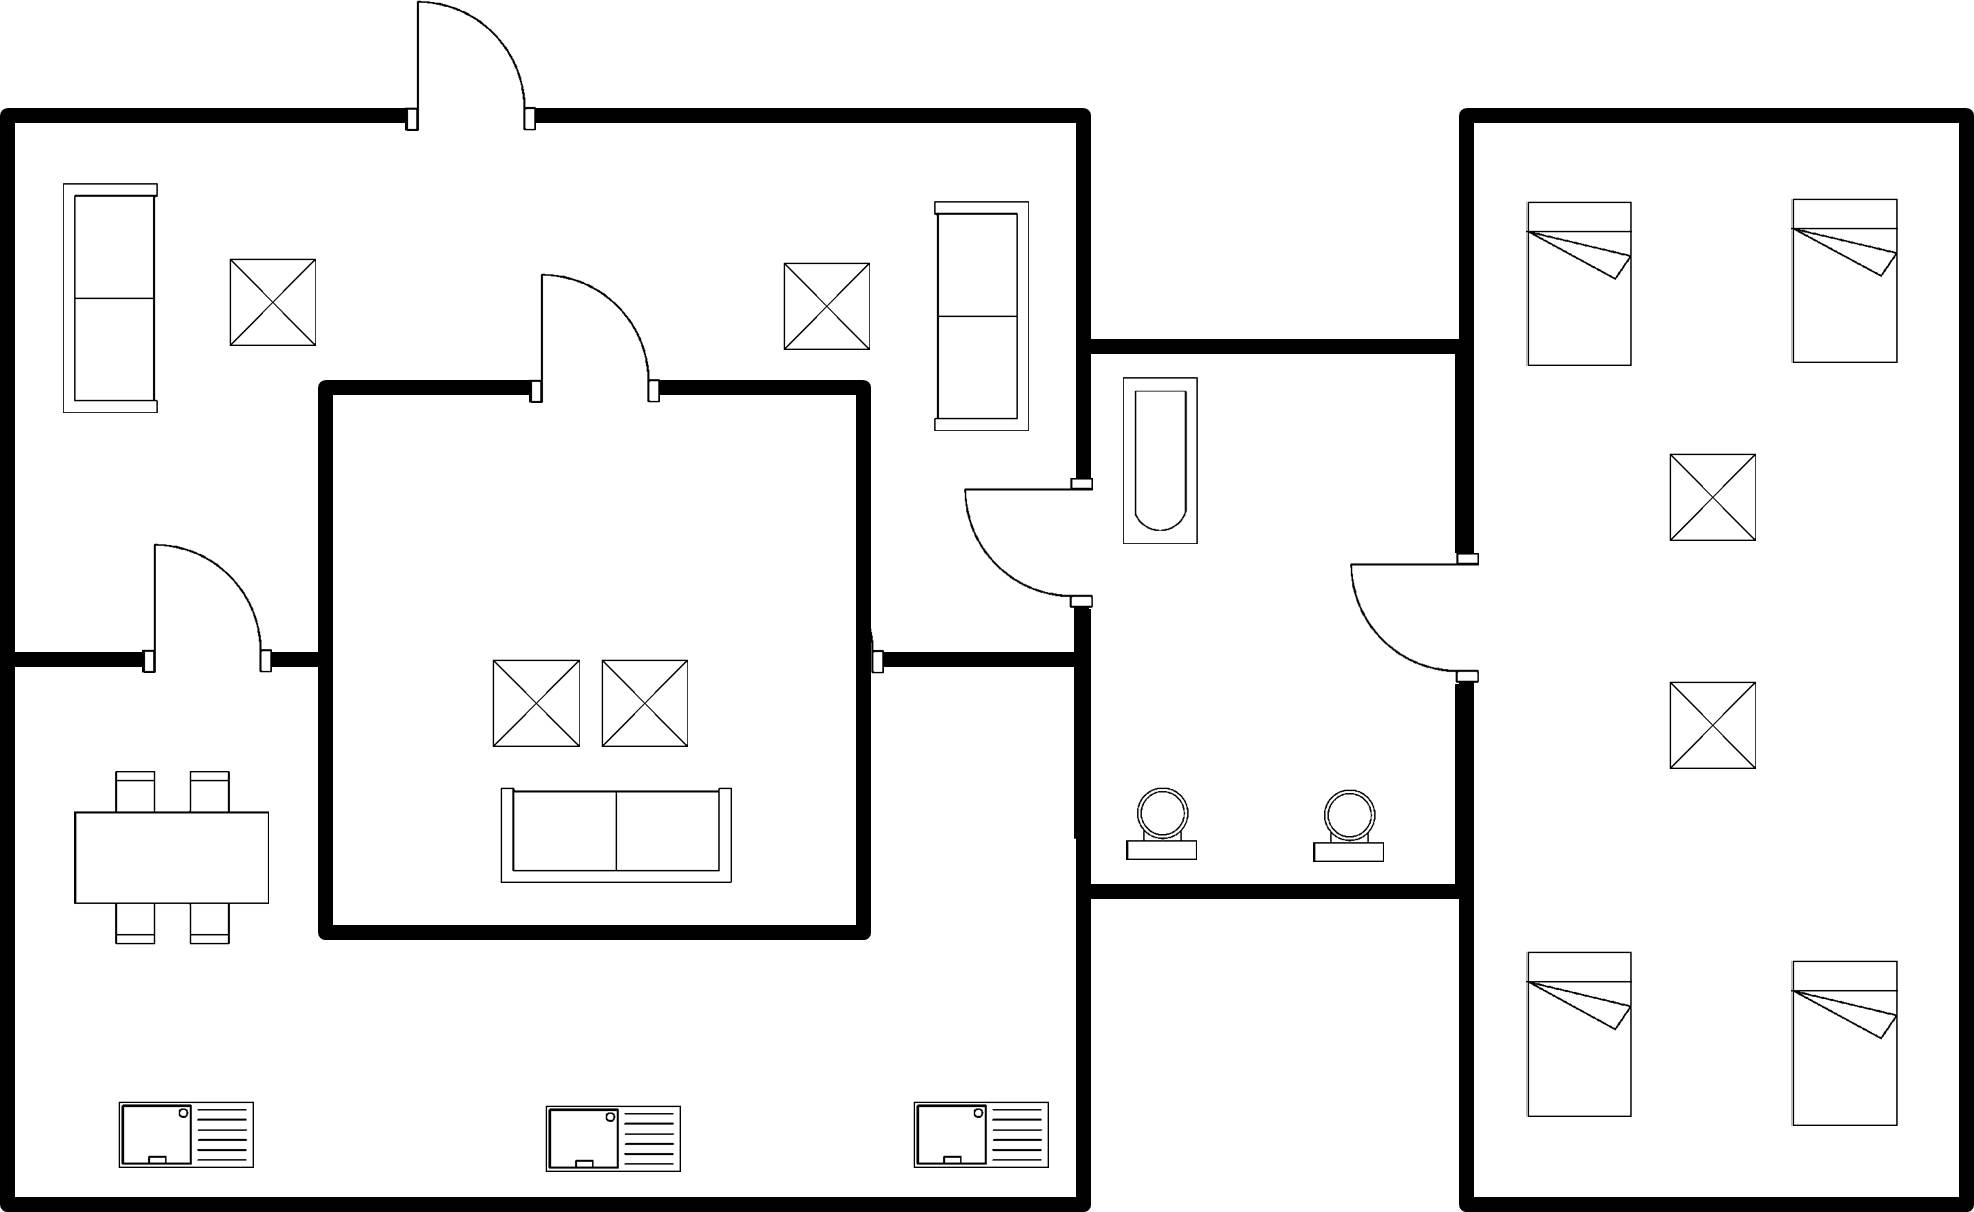bed: (1512, 944, 1647, 1133), (1780, 952, 1909, 1142), (1516, 190, 1642, 378), (1783, 187, 1906, 375)
coffee_table: (478, 649, 594, 764), (212, 247, 326, 358), (1659, 668, 1768, 780), (1656, 445, 1767, 552), (776, 255, 883, 365), (592, 648, 695, 758)
dining_table: (64, 759, 276, 962)
large_sink: (1298, 779, 1391, 872), (1112, 779, 1206, 869)
large_sofa: (487, 776, 749, 897), (925, 190, 1040, 440), (53, 172, 166, 427)
sink: (535, 1092, 695, 1180), (109, 1093, 267, 1178), (905, 1093, 1060, 1178)
tub: (1111, 368, 1209, 554)
